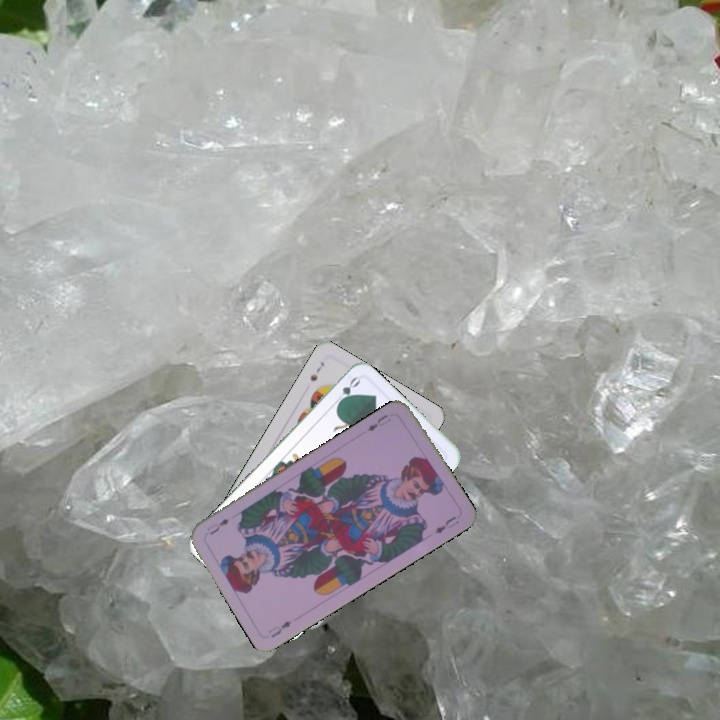EU: (363, 410, 393, 434), (264, 617, 294, 640)
GO: (330, 373, 363, 409)
S7: (306, 358, 327, 384)
